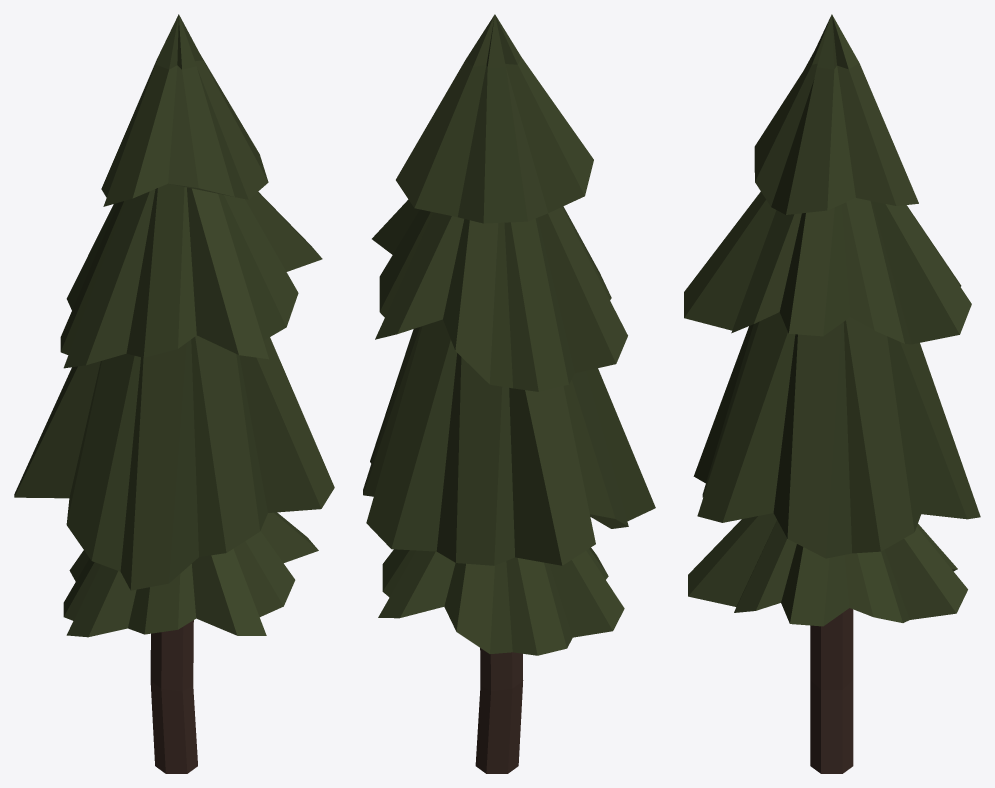
File: Tree Type2 04.glb
3 views of the same model, side by side, from view 1: azimuth 30°, elevation 25°; view 2: azimuth 150°, elevation 25°; view 3: azimuth 270°, elevation 25° (orthographic).
Parts seen in each view (by area): view 1: Tree_Type2_04_mesh; view 2: Tree_Type2_04_mesh; view 3: Tree_Type2_04_mesh.
Part boxes in pixels (<box>): Tree_Type2_04_mesh: <box>14,14,334,773</box>; Tree_Type2_04_mesh: <box>363,14,655,773</box>; Tree_Type2_04_mesh: <box>684,14,980,773</box>.
Bounding box in the file's own units: 1.89 × 5.21 × 1.86.
1 material, 1 textured.
